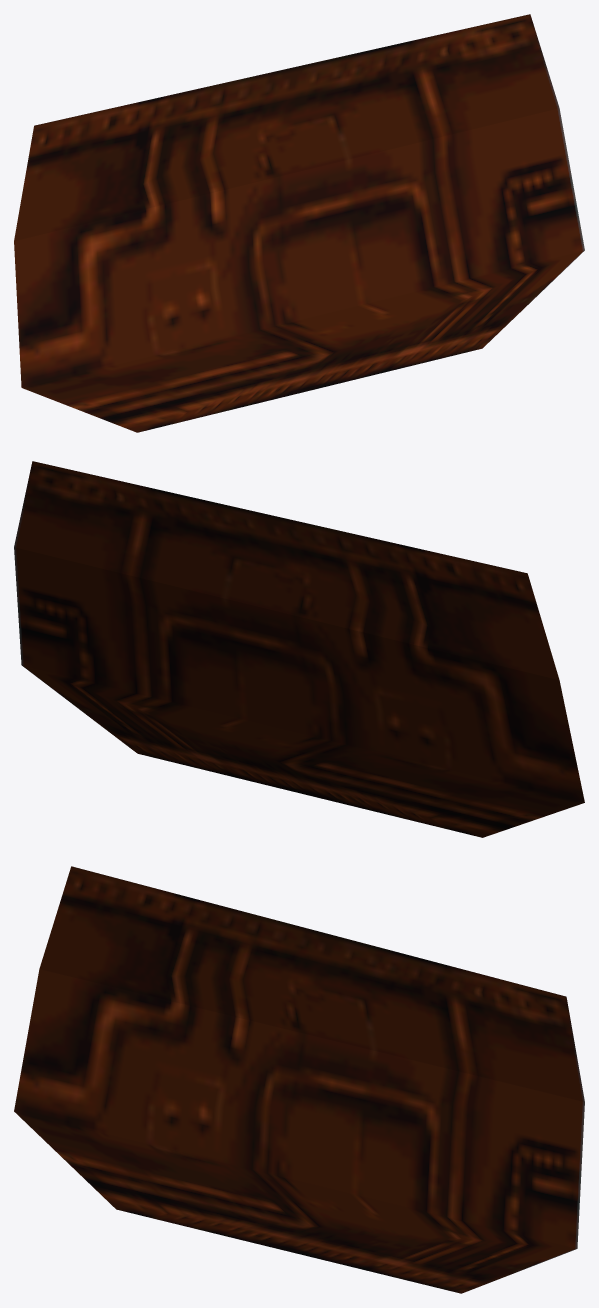
File: Schiff_LaderaumVorne_1281.glb
The picture shows the model from 3 angles, top to bottom: view 1: azimuth 30°, elevation 25°; view 2: azimuth 150°, elevation 25°; view 3: azimuth 330°, elevation 25°; orthographic projection.
Visible parts, largest first — view 1: pPlaneShape51; view 2: pPlaneShape51; view 3: pPlaneShape51.
Boxes of the visible parts, x1=… form: pPlaneShape51: x1=14, y1=14, x2=584, y2=432; pPlaneShape51: x1=14, y1=461, x2=584, y2=837; pPlaneShape51: x1=14, y1=866, x2=584, y2=1293.
Bounding box in the file's own units: 2.06 × 1.06 × 0.1843.
Materials: 1 (1 with a texture image).
